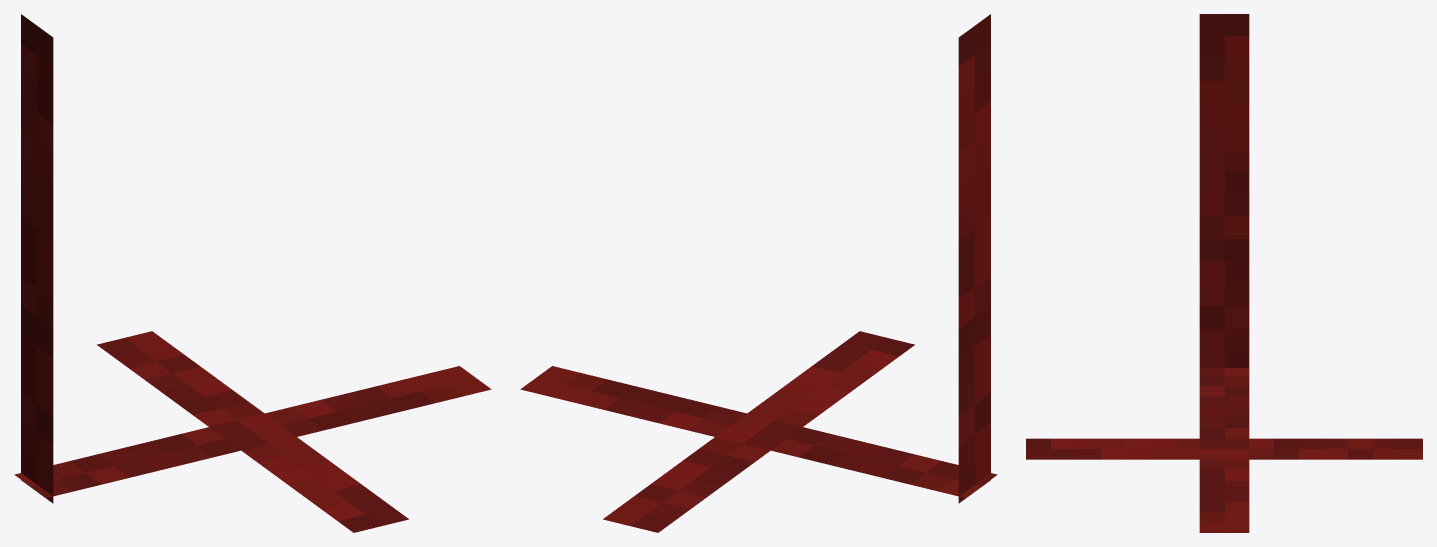
The model's file is dust_1211.gltf.
The picture shows the model from 3 angles, left to right: view 1: azimuth 30°, elevation 25°; view 2: azimuth 150°, elevation 25°; view 3: azimuth 270°, elevation 25°; orthographic projection. The views are drawn at different scales.
Visible parts, largest first — view 1: dust_1211; view 2: dust_1211; view 3: dust_1211.
Boxes of the visible parts, x1,y1,x2,y2 form: dust_1211: [14, 14, 491, 532]; dust_1211: [520, 14, 997, 532]; dust_1211: [1026, 14, 1422, 532].
Bounding box in the file's own units: 1 × 1 × 1.
Materials: 1 (1 with a texture image).
